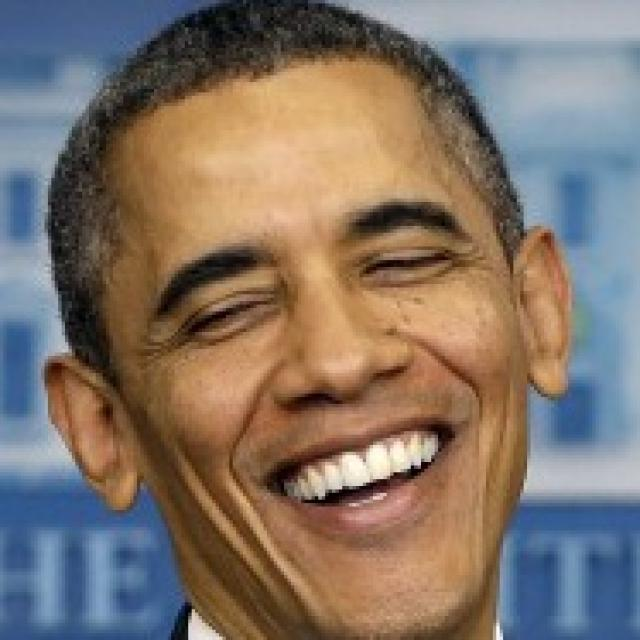Normal: (95, 52, 536, 637)
